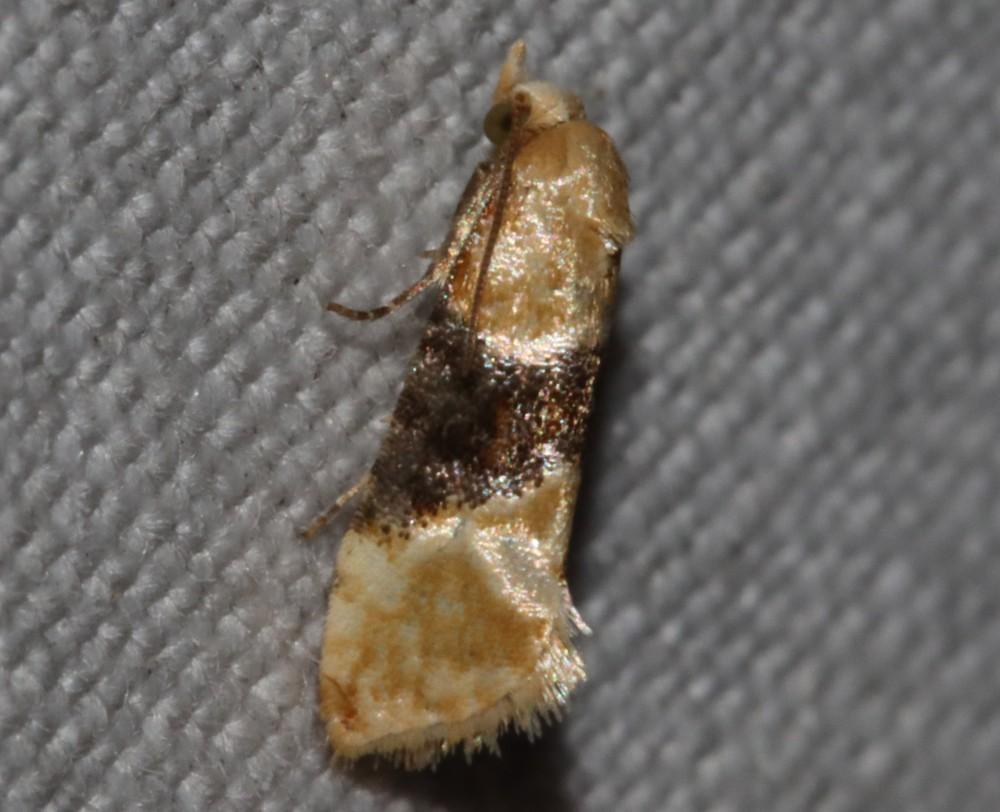Eupoecilia Ambiguella: (297, 36, 639, 773)
